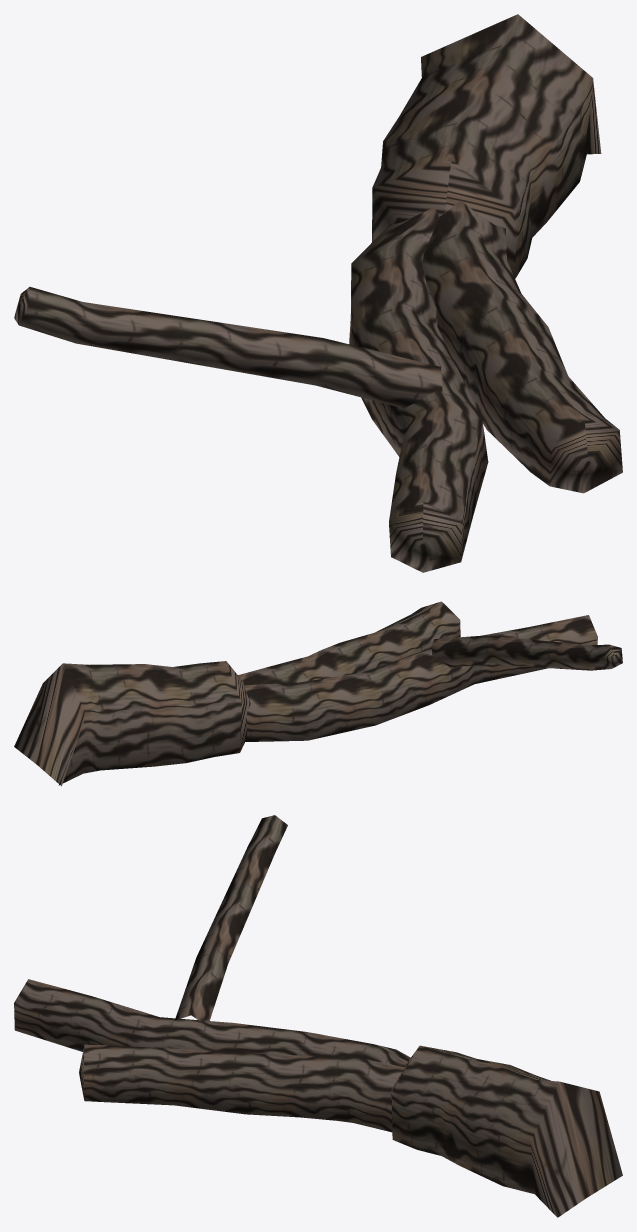
Rendered from fallen-b.lod1.glb.
3 renders of one model, top to bottom at view 1: azimuth 30°, elevation 25°; view 2: azimuth 150°, elevation 25°; view 3: azimuth 270°, elevation 25°, orthographic. The views are drawn at different scales.
Parts seen in each view (by area): view 1: bark; view 2: bark; view 3: bark.
Part boxes in pixels (x1,y1,x2,y2): bark: (14, 14, 622, 572); bark: (14, 601, 622, 786); bark: (14, 815, 622, 1217).
Size of the model in its own units: 3.27 by 0.8176 by 3.17.
1 material, 1 textured.
